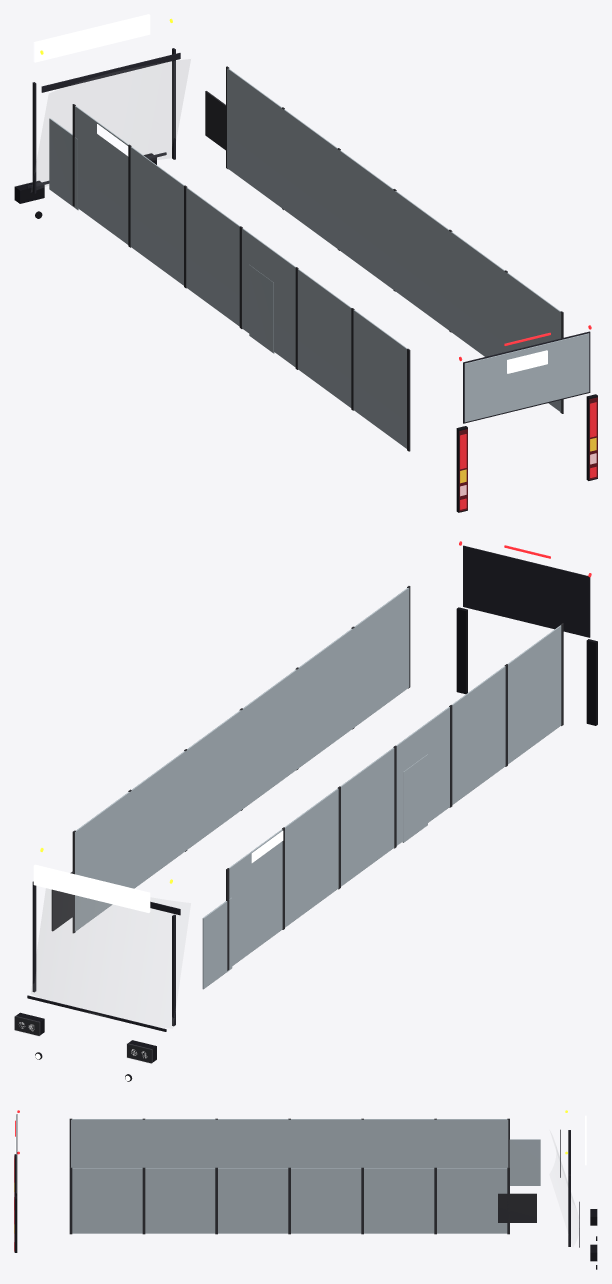
The model's file is lighting_glass.glb.
3 views of the same model, one above another, from view 1: azimuth 30°, elevation 25°; view 2: azimuth 150°, elevation 25°; view 3: azimuth 270°, elevation 25° (orthographic). The views are drawn at different scales.
Visible parts, largest first — view 1: GLASS_Side_Passenger_Ribbon_L, GLASS_Side_Passenger_Ribbon_R, GLASS_Panoramic_Windshield, GLASS_Rear_Backlight_Window, LIGHT_Destination_Matrix_Sign_Front, DOOR_Front_Coach_Window_Pane, DOOR_Mid_Emergency_Window_Pane, GLASS_Driver_Toll_Window_Frame, GLASS_Windshield_Frit_Top_Sunband, GLASS_Rear_Backlight_Frit_Mask, LIGHT_Rear_Taillight_CoverLens_L, LIGHT_Rear_Taillight_CoverLens_R; view 2: GLASS_Side_Passenger_Ribbon_L, GLASS_Side_Passenger_Ribbon_R, GLASS_Panoramic_Windshield, GLASS_Rear_Backlight_Frit_Mask, LIGHT_Destination_Matrix_Sign_Front, DOOR_Front_Coach_Window_Pane, DOOR_Mid_Emergency_Window_Pane, LIGHT_Rear_Taillight_Housing_L, LIGHT_Rear_Taillight_Housing_R, GLASS_Driver_Toll_Window_Frame; view 3: GLASS_Side_Passenger_Ribbon_L, GLASS_Side_Passenger_Ribbon_R, DOOR_Front_Coach_Window_Pane, GLASS_Driver_Toll_Window_Frame, GLASS_Panoramic_Windshield, GLASS_Pillar_Divider_L_01, GLASS_Pillar_Divider_L_02.
Boxes of the visible parts, x1,y1,x2,y2 form: GLASS_Side_Passenger_Ribbon_L: (227, 68, 561, 412); GLASS_Side_Passenger_Ribbon_R: (75, 106, 407, 448); GLASS_Panoramic_Windshield: (31, 59, 190, 191); GLASS_Rear_Backlight_Window: (464, 333, 589, 422); LIGHT_Destination_Matrix_Sign_Front: (33, 14, 150, 62); DOOR_Front_Coach_Window_Pane: (49, 118, 78, 210); DOOR_Mid_Emergency_Window_Pane: (249, 265, 274, 353); GLASS_Driver_Toll_Window_Frame: (205, 91, 226, 150); GLASS_Windshield_Frit_Top_Sunband: (41, 53, 180, 92); GLASS_Rear_Backlight_Frit_Mask: (463, 331, 590, 423); LIGHT_Rear_Taillight_CoverLens_L: (589, 397, 597, 479); LIGHT_Rear_Taillight_CoverLens_R: (459, 429, 467, 511); GLASS_Side_Passenger_Ribbon_L: (75, 588, 409, 931); GLASS_Side_Passenger_Ribbon_R: (229, 625, 561, 965); GLASS_Panoramic_Windshield: (31, 889, 190, 1027); GLASS_Rear_Backlight_Frit_Mask: (463, 545, 590, 637); LIGHT_Destination_Matrix_Sign_Front: (33, 864, 150, 912); DOOR_Front_Coach_Window_Pane: (202, 898, 232, 989); DOOR_Mid_Emergency_Window_Pane: (402, 754, 427, 842); LIGHT_Rear_Taillight_Housing_L: (456, 607, 467, 694); LIGHT_Rear_Taillight_Housing_R: (586, 639, 597, 725); GLASS_Driver_Toll_Window_Frame: (51, 871, 74, 931); GLASS_Side_Passenger_Ribbon_L: (72, 1168, 507, 1233); GLASS_Side_Passenger_Ribbon_R: (71, 1119, 508, 1167); DOOR_Front_Coach_Window_Pane: (509, 1139, 540, 1185); GLASS_Driver_Toll_Window_Frame: (498, 1193, 536, 1222); GLASS_Panoramic_Windshield: (550, 1134, 578, 1246); GLASS_Pillar_Divider_L_01: (69, 1167, 72, 1234); GLASS_Pillar_Divider_L_02: (142, 1167, 145, 1234).
Size of the model in its own units: 2.62 by 3.14 by 13.08.
